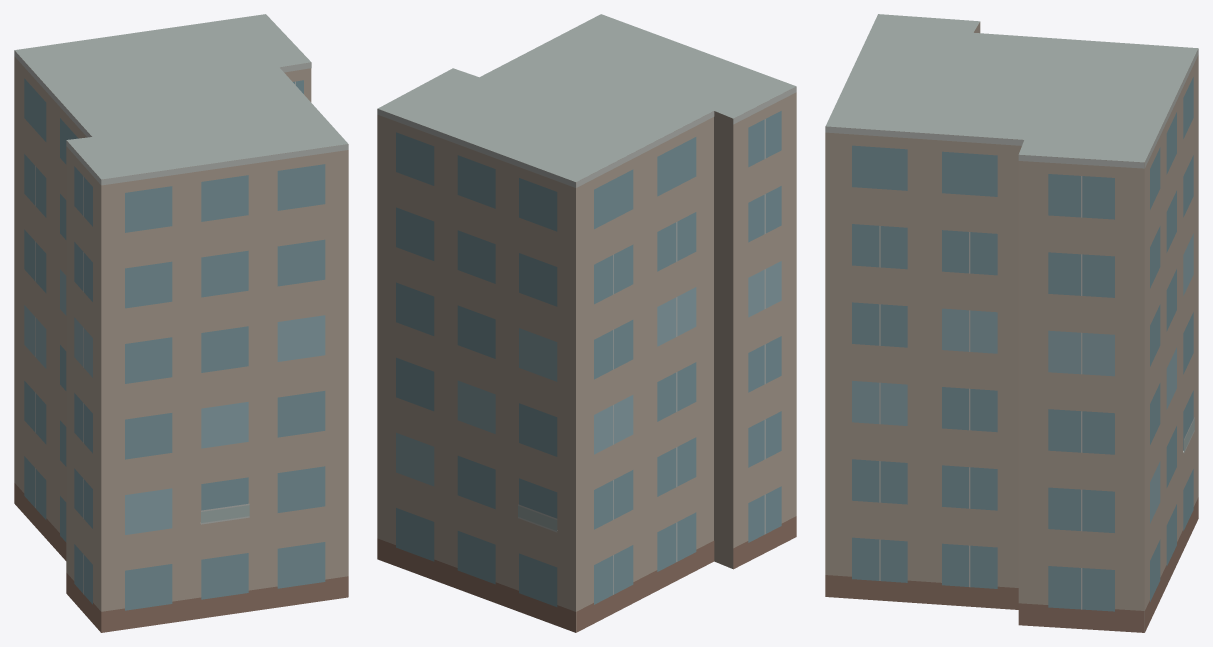
File: survey-upis-32870899.glb
3 renders of one model, left to right at view 1: azimuth 30°, elevation 25°; view 2: azimuth 150°, elevation 25°; view 3: azimuth 270°, elevation 25°, orthographic. The views are drawn at different scales.
Visible parts, largest first — view 1: survey-upis-32870899.tmp; view 2: survey-upis-32870899.tmp; view 3: survey-upis-32870899.tmp.
Boxes of the visible parts, x1,y1,x2,y2 form: survey-upis-32870899.tmp: (14, 14, 348, 632); survey-upis-32870899.tmp: (377, 14, 796, 632); survey-upis-32870899.tmp: (825, 14, 1198, 632).
Size of the model in its own units: 12.6 by 18.6 by 13.38.
